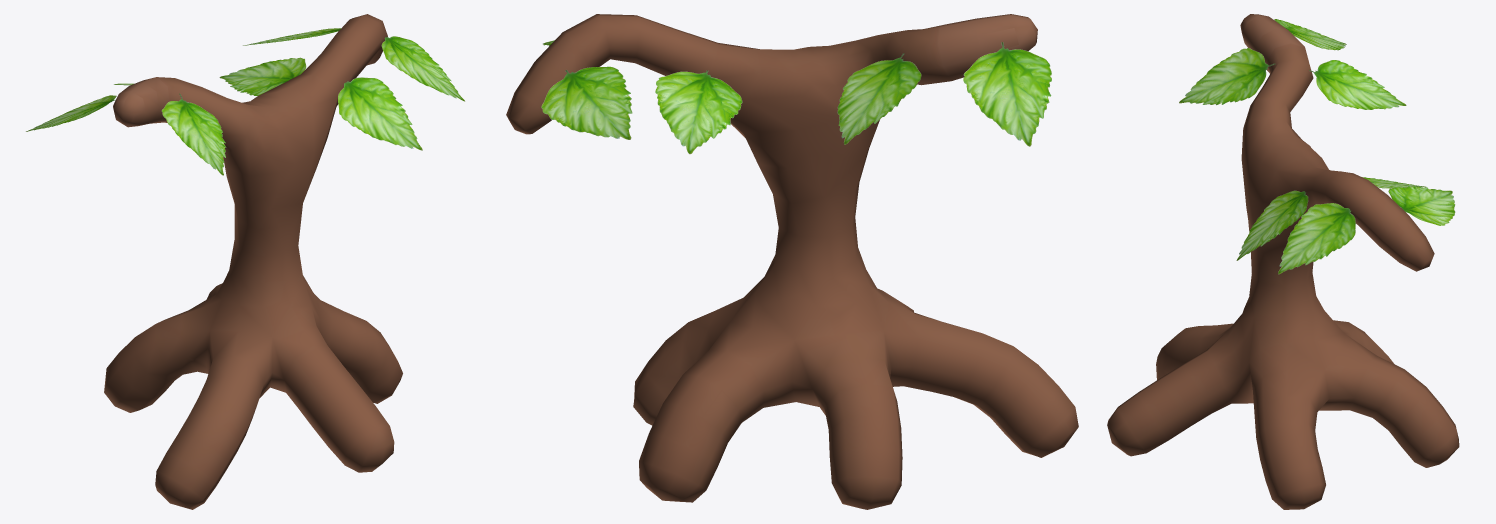
The model's file is Generic_teen_plant.fbx.
3 renders of one model, left to right at view 1: azimuth 30°, elevation 25°; view 2: azimuth 150°, elevation 25°; view 3: azimuth 270°, elevation 25°, orthographic. The views are drawn at different scales.
Parts seen in each view (by area): view 1: teen_generic_plant, teen_generic_plant_leaf; view 2: teen_generic_plant, teen_generic_plant_leaf; view 3: teen_generic_plant, teen_generic_plant_leaf.
Part boxes in pixels (left/top/right/bottom): teen_generic_plant: left=104, top=14, right=402, bottom=509; teen_generic_plant_leaf: left=26, top=28, right=465, bottom=175; teen_generic_plant: left=506, top=14, right=1078, bottom=509; teen_generic_plant_leaf: left=541, top=40, right=1051, bottom=154; teen_generic_plant: left=1107, top=14, right=1459, bottom=509; teen_generic_plant_leaf: left=1179, top=19, right=1455, bottom=274.
Bounding box in the file's own units: 67.81 × 56.37 × 50.91.
